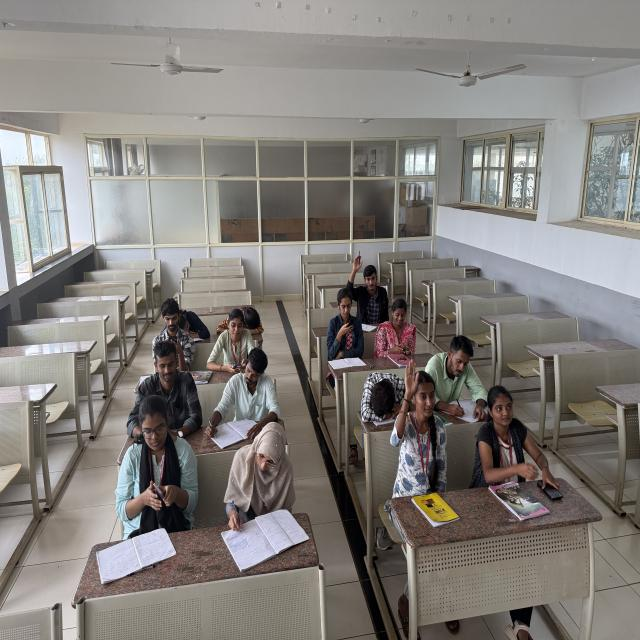Hand Rising: (402, 358, 446, 466), (346, 254, 389, 324)
Sleeping: (354, 364, 408, 431), (216, 288, 268, 344), (173, 296, 218, 339)
Using Phone: (123, 390, 195, 535), (206, 304, 251, 373), (321, 286, 366, 351), (154, 295, 190, 376), (378, 296, 424, 355)
Writing: (231, 421, 305, 552), (431, 324, 490, 426), (204, 368, 277, 440)
